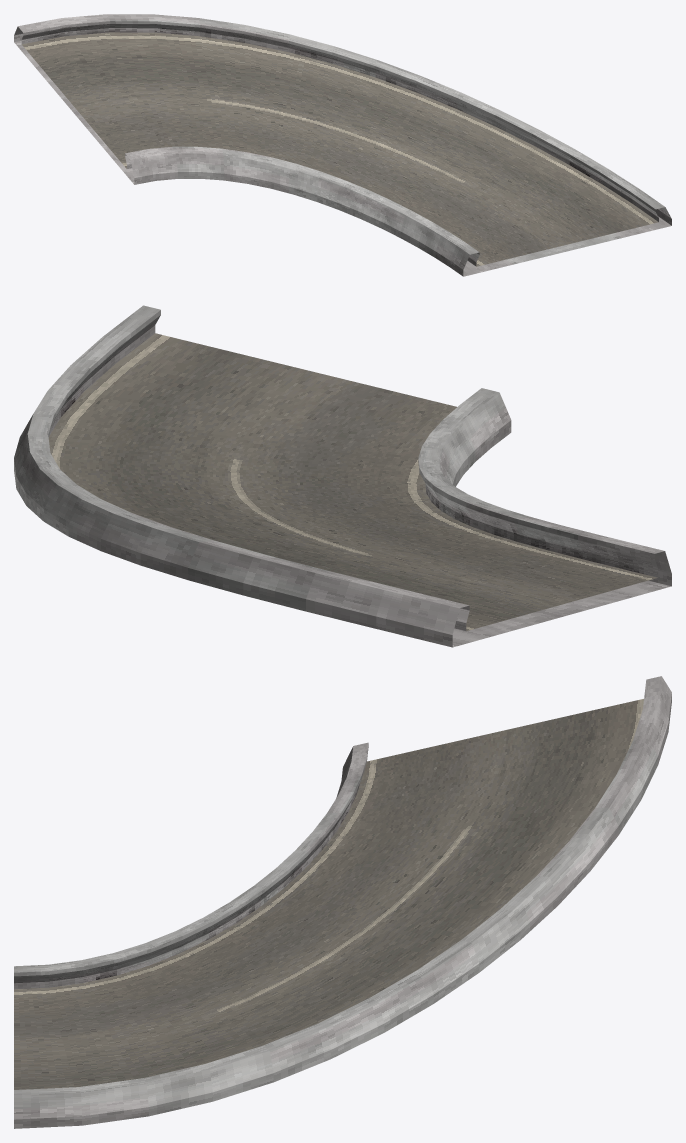
File: turn-left2x2.glb
3 views of the same model, one above another, from view 1: azimuth 30°, elevation 25°; view 2: azimuth 150°, elevation 25°; view 3: azimuth 270°, elevation 25° (orthographic). The views are drawn at different scales.
Parts seen in each view (by area): view 1: road-Turn-Flat-HalfBankedLeft-Up1-Left-Size2; view 2: road-Turn-Flat-HalfBankedLeft-Up1-Left-Size2; view 3: road-Turn-Flat-HalfBankedLeft-Up1-Left-Size2.
Part boxes in pixels (bbox=[...]): road-Turn-Flat-HalfBankedLeft-Up1-Left-Size2: bbox=[14, 14, 671, 276]; road-Turn-Flat-HalfBankedLeft-Up1-Left-Size2: bbox=[14, 305, 671, 647]; road-Turn-Flat-HalfBankedLeft-Up1-Left-Size2: bbox=[14, 676, 671, 1128].
Size of the model in its own units: 2 by 0.5859 by 2.
Materials: 2 (2 with a texture image).
